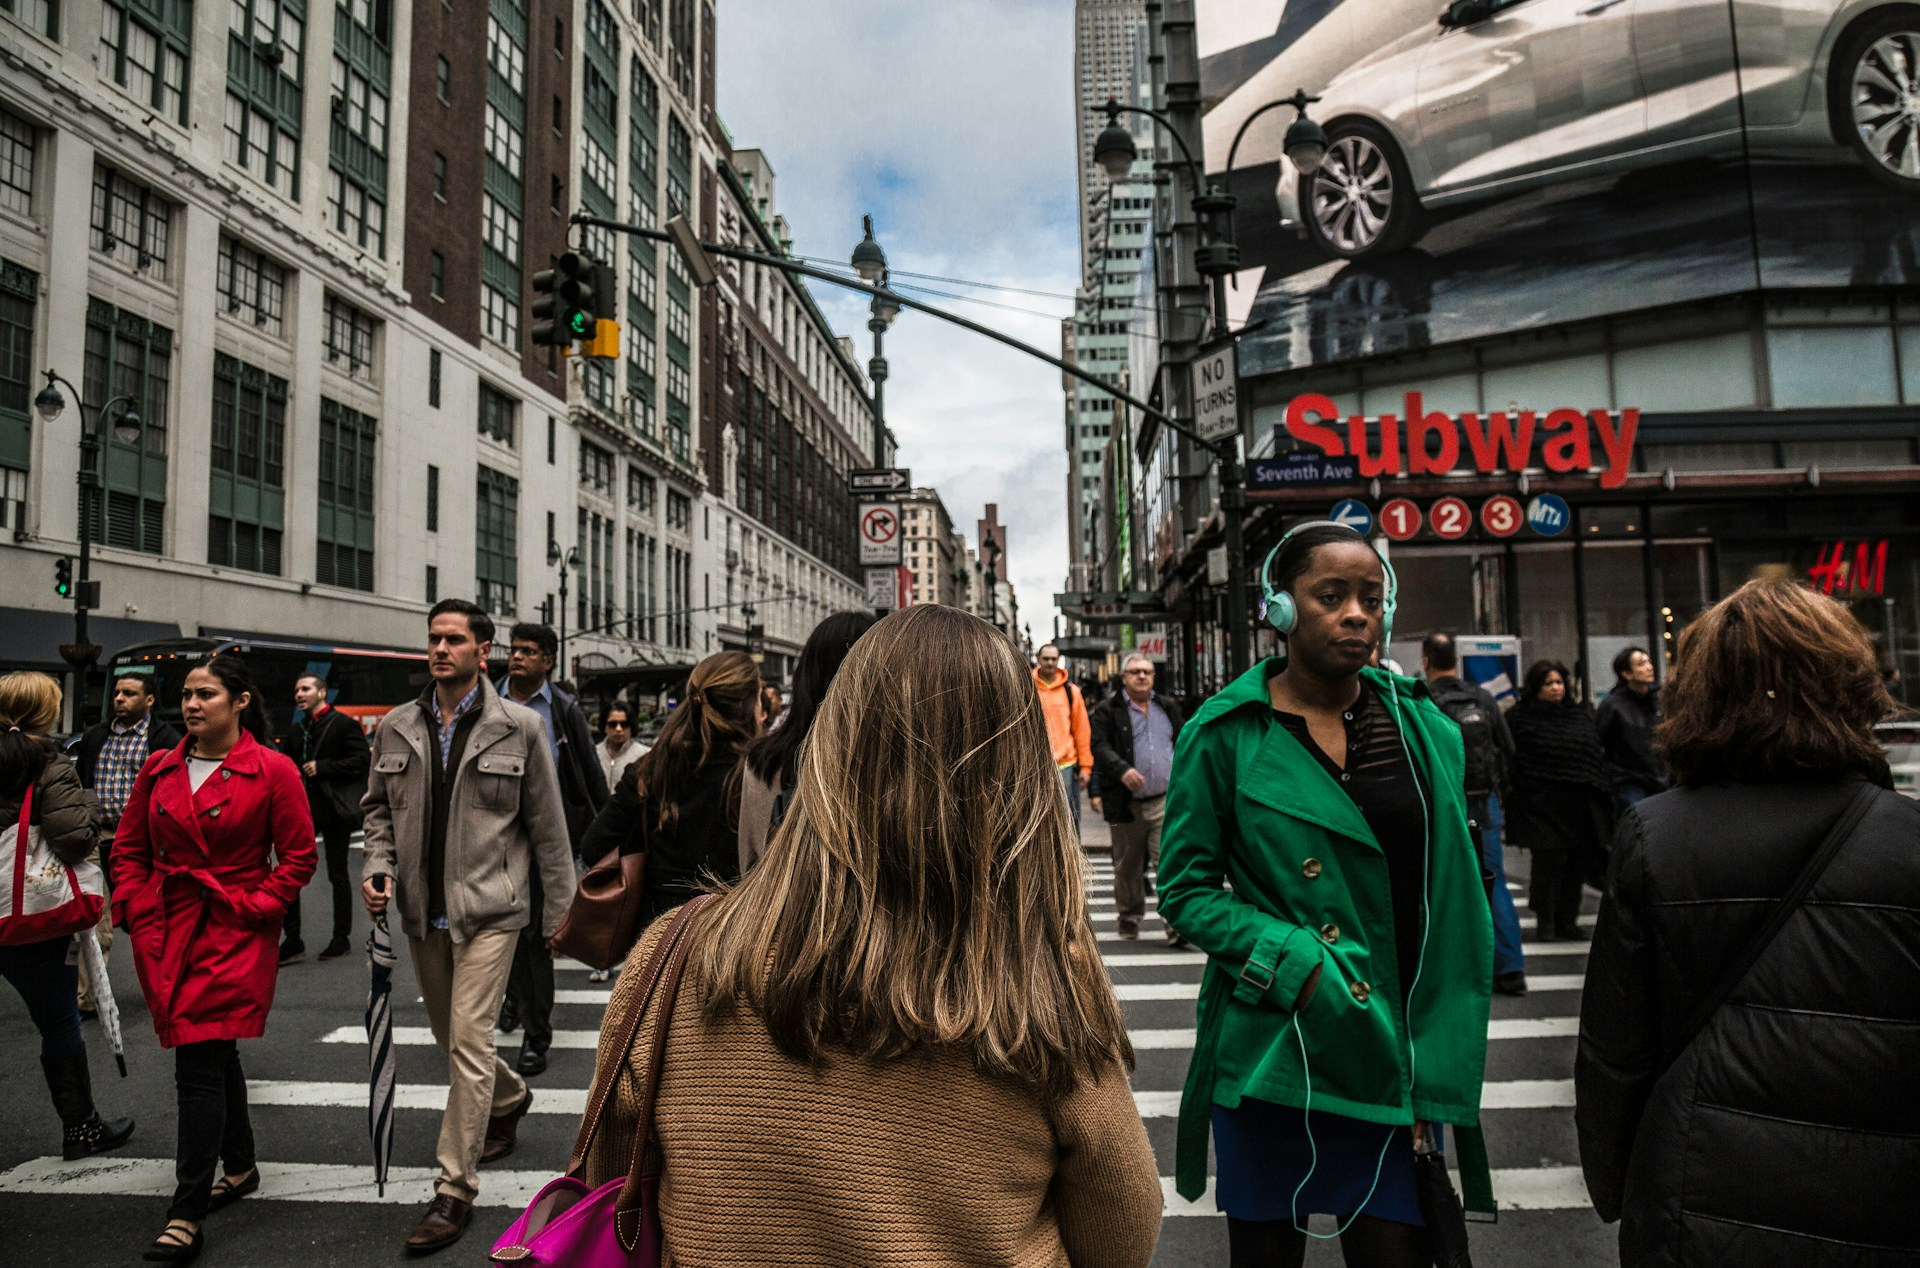person: (497, 598, 1169, 1268), (1158, 516, 1510, 1268), (1573, 559, 1920, 1268), (358, 591, 582, 1257), (106, 646, 321, 1257), (556, 628, 773, 978), (4, 659, 145, 1155), (732, 600, 884, 915), (491, 602, 588, 1078), (1410, 629, 1536, 998), (1088, 641, 1228, 955), (273, 668, 369, 965), (1512, 657, 1601, 944), (73, 670, 184, 885), (1025, 633, 1093, 855), (1601, 631, 1671, 842), (588, 691, 658, 805)
